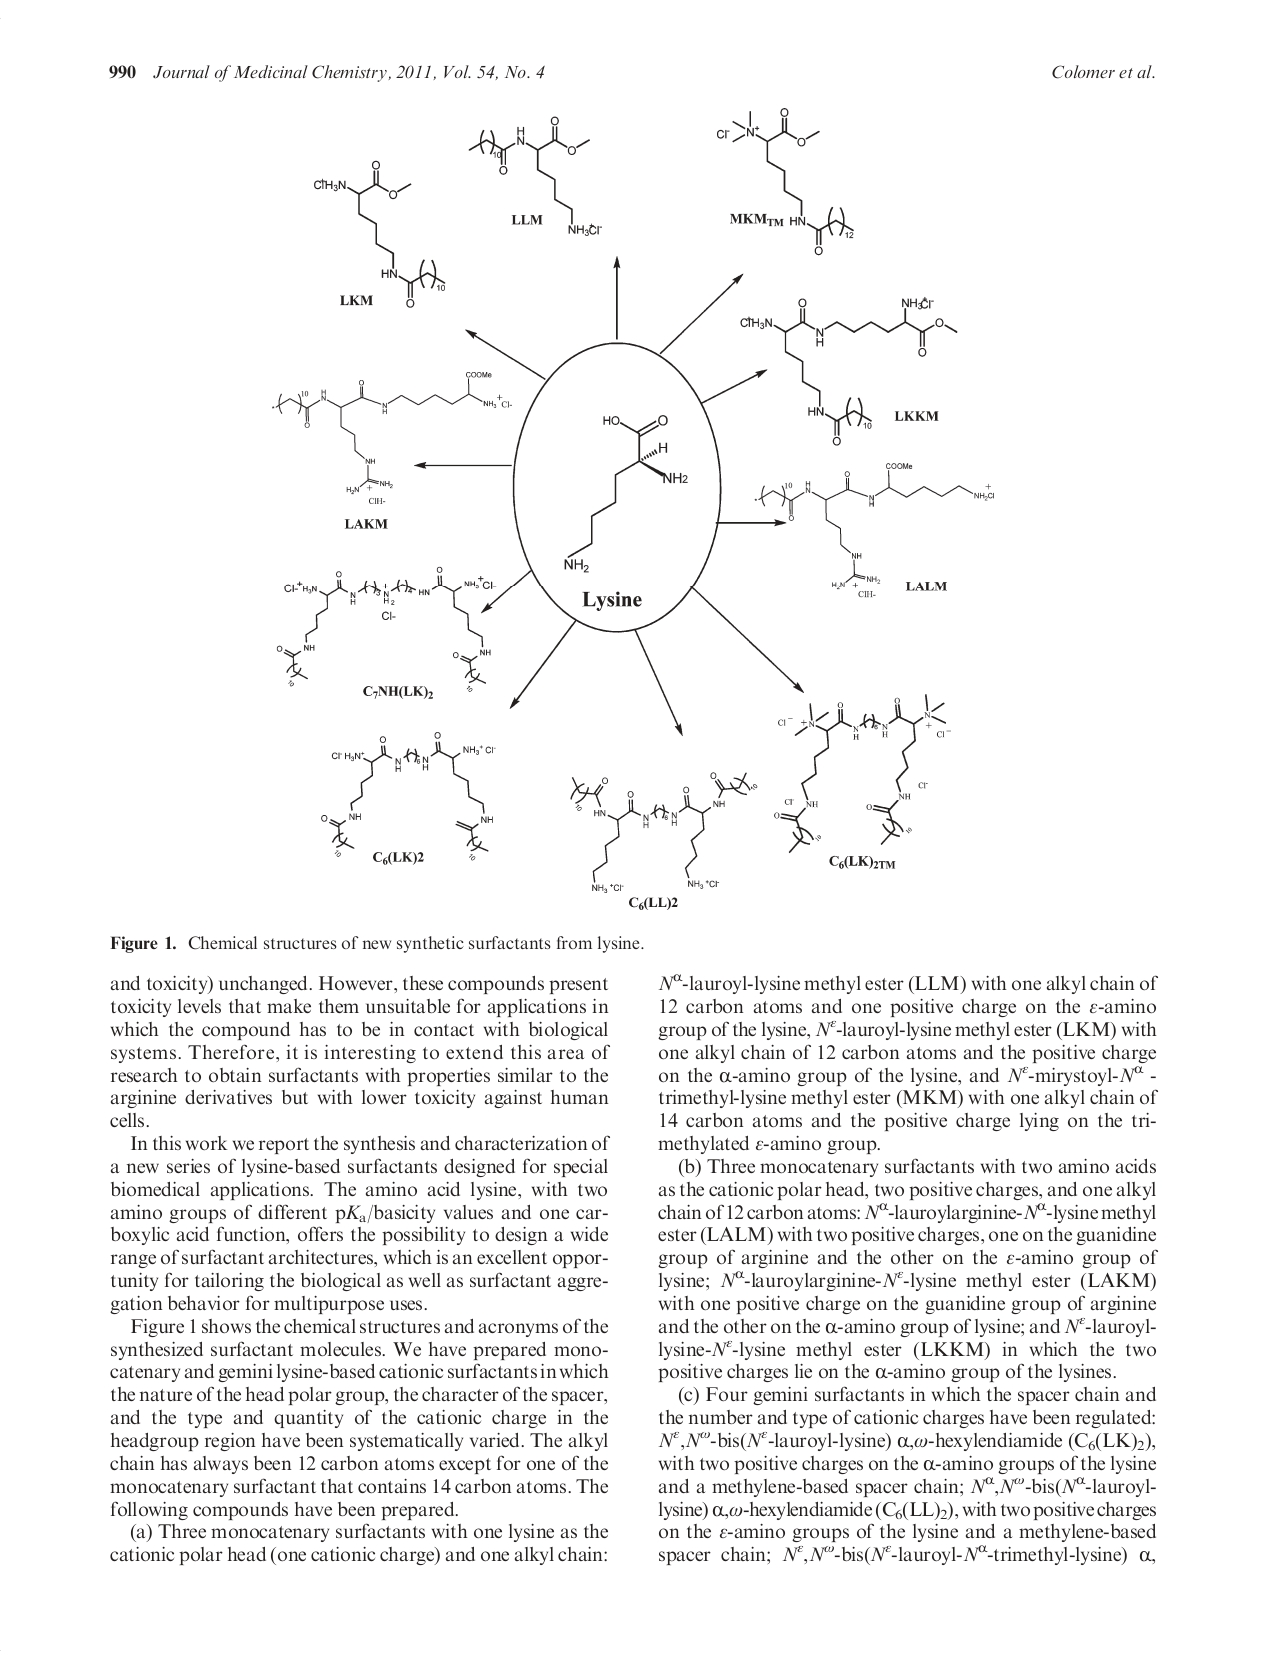exist_molecular: (269, 368, 512, 509), (735, 294, 961, 446), (751, 460, 996, 598), (770, 692, 953, 852), (274, 563, 497, 692), (565, 766, 761, 894), (315, 727, 497, 862), (713, 102, 856, 255), (559, 411, 692, 576), (309, 156, 449, 309), (464, 113, 606, 242)
